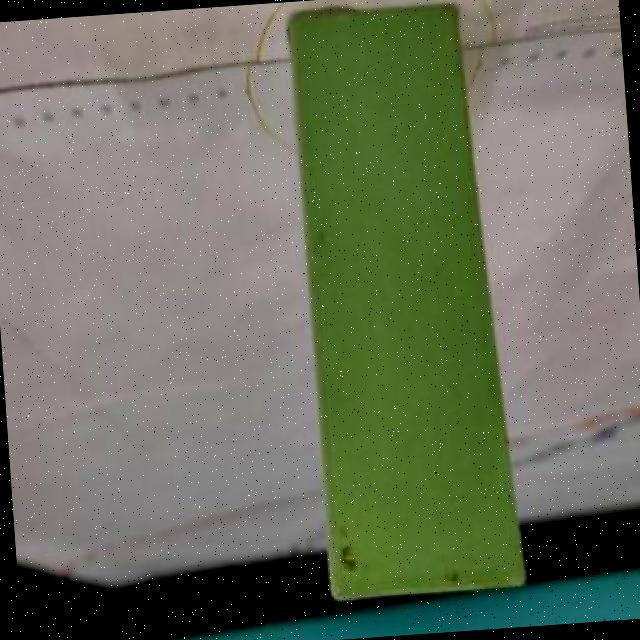greenbox: (288, 1, 525, 604)
